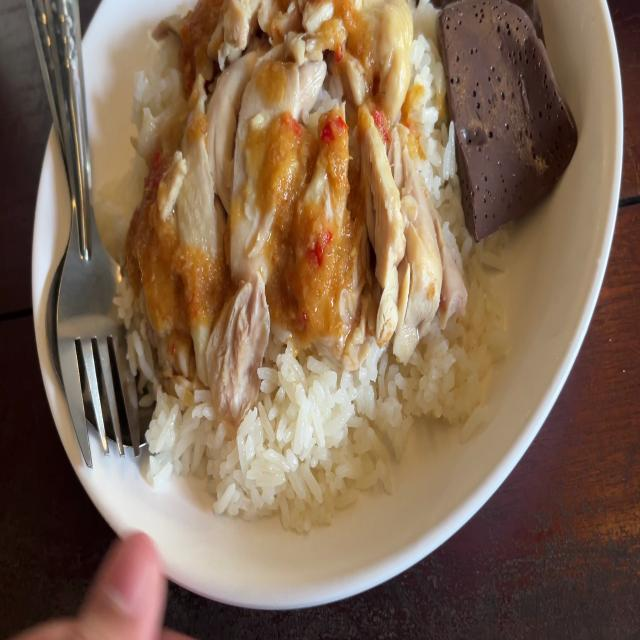chicken_rice: (133, 0, 425, 332)
noodle: (443, 0, 576, 231)
